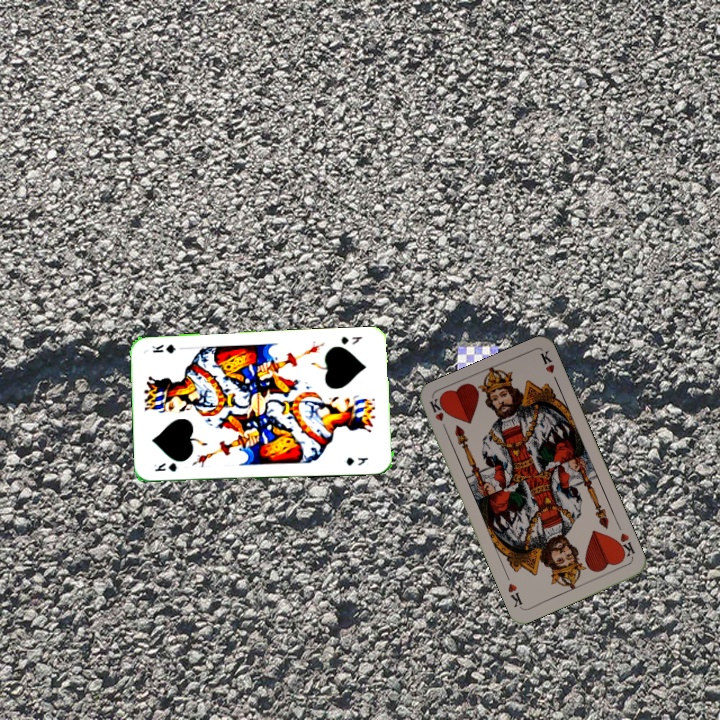GK: (150, 459, 181, 474), (337, 332, 365, 347)
HK: (425, 395, 450, 435), (612, 529, 637, 561)
